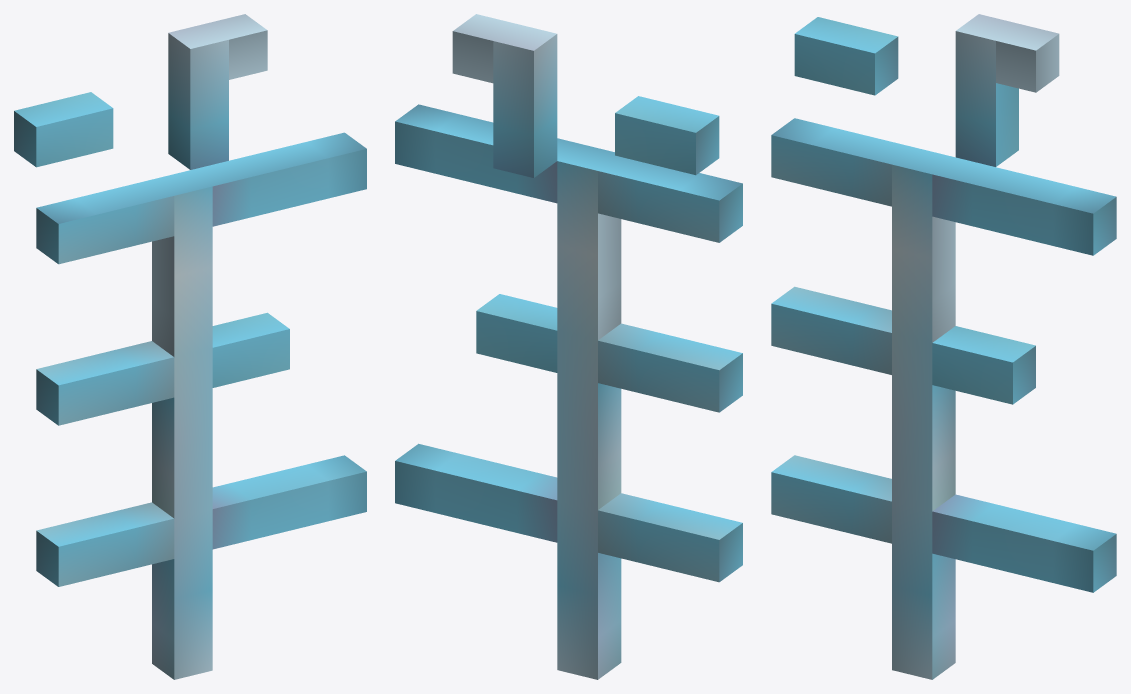
Rendered from BillboardModule_ChineseSymbol_AE_00.fbx.
The picture shows the model from 3 angles, left to right: view 1: azimuth 30°, elevation 25°; view 2: azimuth 150°, elevation 25°; view 3: azimuth 330°, elevation 25°; orthographic projection. The views are drawn at different scales.
Visible parts, largest first — view 1: BillboardModule_ChineseSymbol_AE_00; view 2: BillboardModule_ChineseSymbol_AE_00; view 3: BillboardModule_ChineseSymbol_AE_00.
Part boxes in pixels (x1,y1,x2,y2): BillboardModule_ChineseSymbol_AE_00: (14,14,366,679); BillboardModule_ChineseSymbol_AE_00: (395,14,742,679); BillboardModule_ChineseSymbol_AE_00: (771,14,1116,679).
Size of the model in its own units: 40 by 75 by 10.
